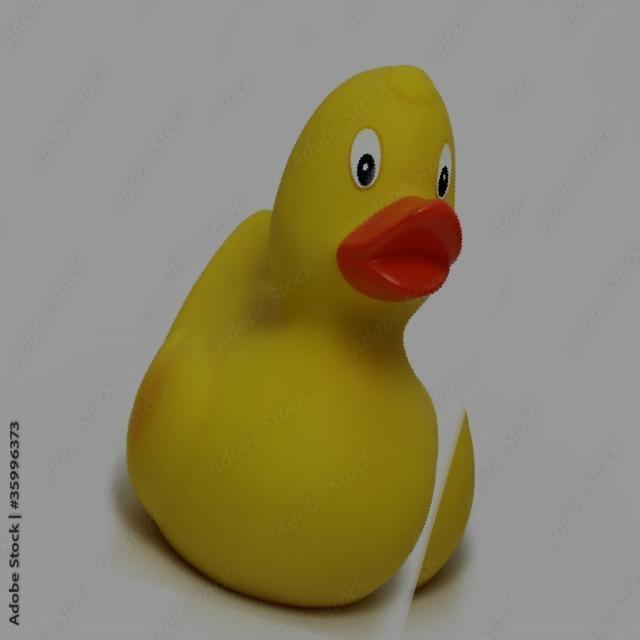rubber-duck: (126, 65, 460, 605), (415, 415, 472, 582)
